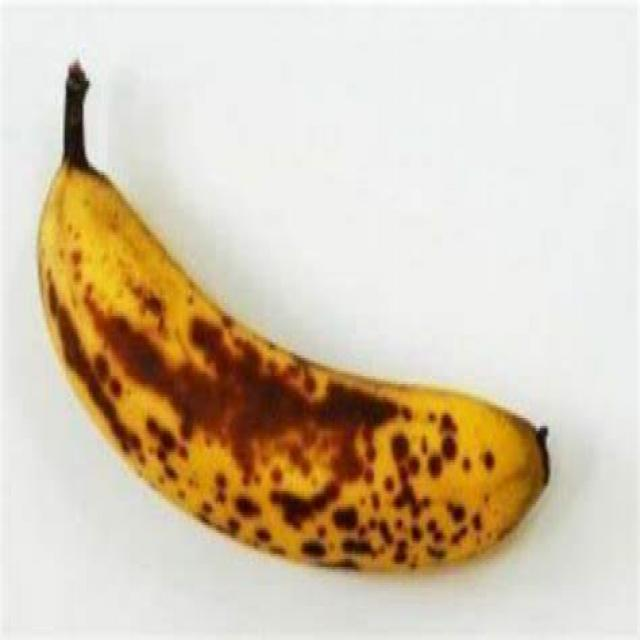Banana: (39, 70, 555, 582)
